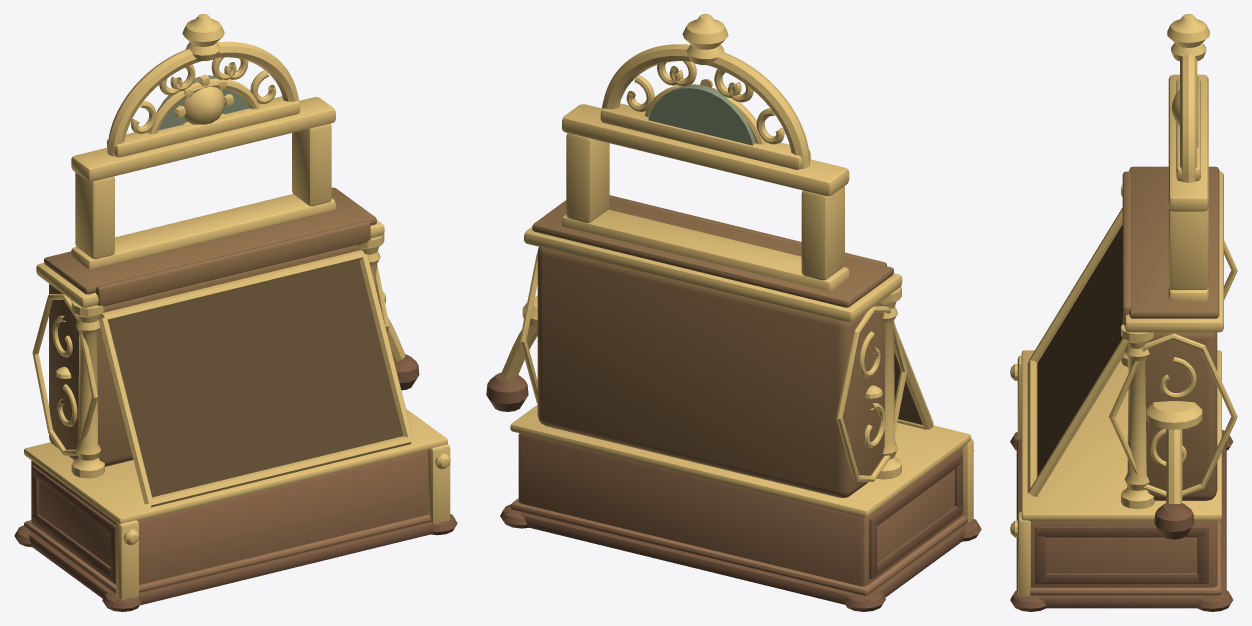
The model's file is register_body.glb.
3 renders of one model, left to right at view 1: azimuth 30°, elevation 25°; view 2: azimuth 150°, elevation 25°; view 3: azimuth 270°, elevation 25°, orthographic. The views are drawn at different scales.
Parts seen in each view (by area): view 1: RegisterBody; view 2: RegisterBody; view 3: RegisterBody.
Part boxes in pixels (box(x1,y1,x2,y2)): RegisterBody: box(14, 14, 457, 611); RegisterBody: box(486, 14, 981, 611); RegisterBody: box(1010, 14, 1237, 611).
Size of the model in its own units: 47.5 by 59 by 23.86.
